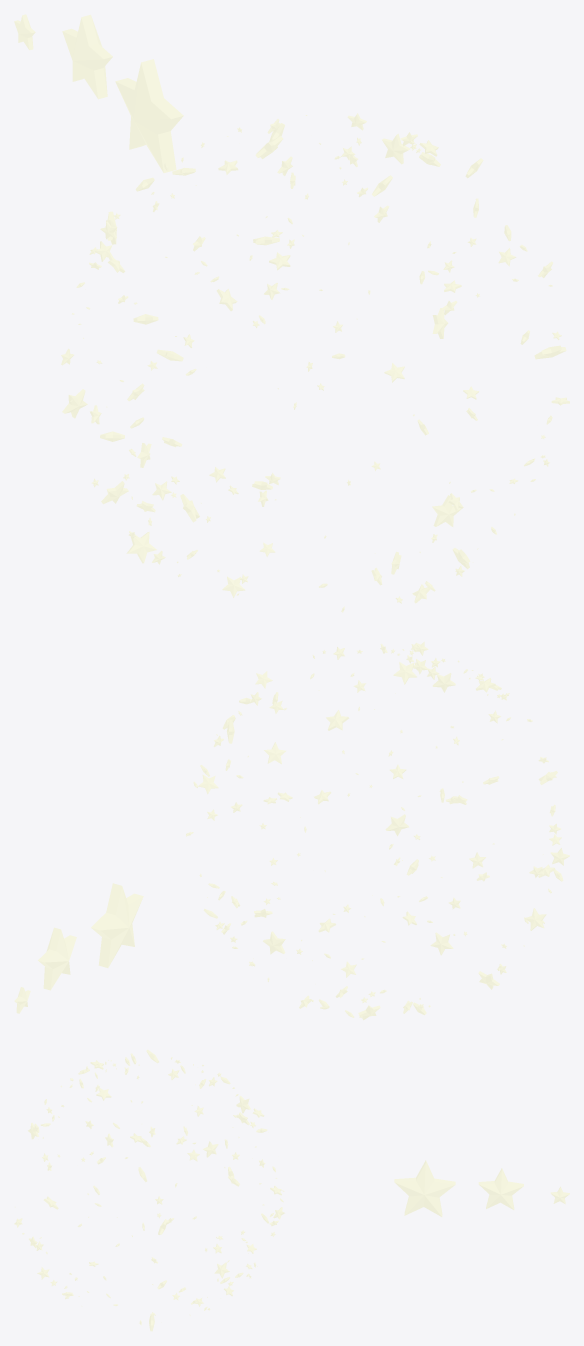
The model's file is starAnimated.glb.
3 renders of one model, top to bottom at view 1: azimuth 30°, elevation 25°; view 2: azimuth 150°, elevation 25°; view 3: azimuth 270°, elevation 25°, orthographic. The views are drawn at different scales.
Visible parts, largest first — view 1: Star, Star.001; view 2: Star, Star.001; view 3: Star, Star.001.
Boxes of the visible parts, left/top/right/bottom form: Star: left=115, top=59, right=183, bottom=172; Star.001: left=62, top=14, right=112, bottom=99; Star: left=91, top=883, right=143, bottom=967; Star.001: left=38, top=927, right=76, bottom=990; Star: left=394, top=1160, right=455, bottom=1216; Star.001: left=478, top=1168, right=523, bottom=1209.
Bounding box in the file's own units: 8.56 × 8.55 × 17.21.
